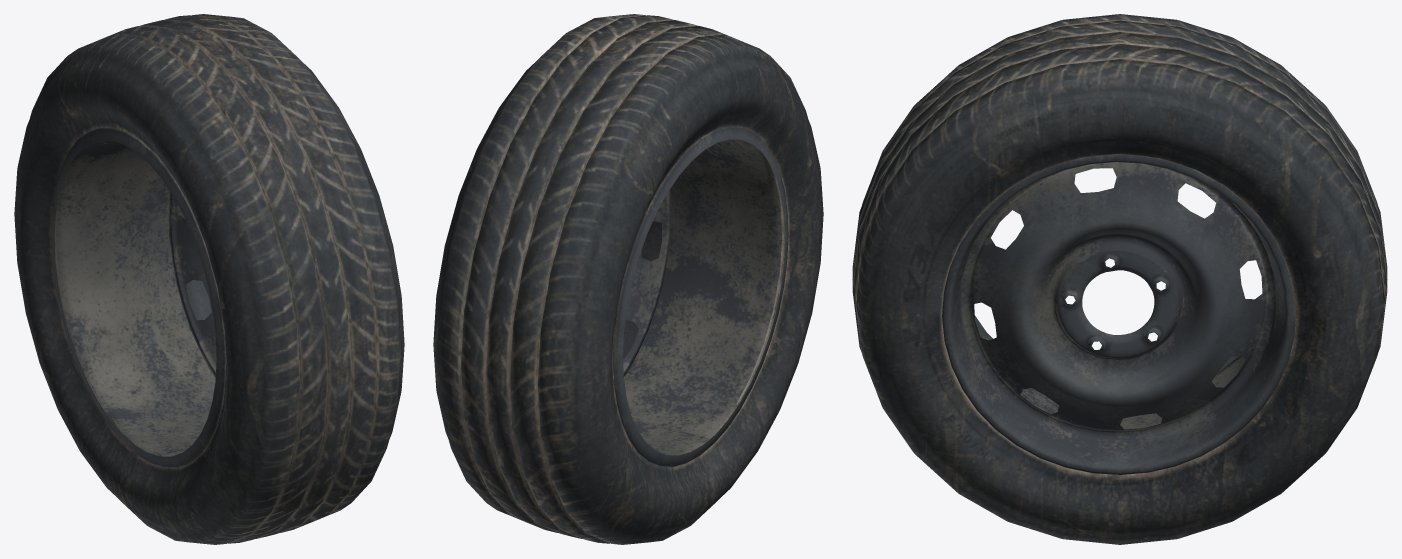
File: old_dirty_tire.glb
The picture shows the model from 3 angles, left to right: view 1: azimuth 30°, elevation 25°; view 2: azimuth 150°, elevation 25°; view 3: azimuth 270°, elevation 25°; orthographic projection.
Parts seen in each view (by area): view 1: tire_low, steelRim_low; view 2: tire_low, steelRim_low; view 3: tire_low, steelRim_low.
Part boxes in pixels (x1,y1,x2,y2): tire_low: [14, 14, 404, 544]; steelRim_low: [51, 127, 226, 468]; tire_low: [433, 14, 823, 544]; steelRim_low: [612, 126, 788, 467]; tire_low: [852, 14, 1387, 544]; steelRim_low: [942, 154, 1296, 474].
Bounding box in the file's own units: 101 × 273 × 273.
1 material, 1 textured.
